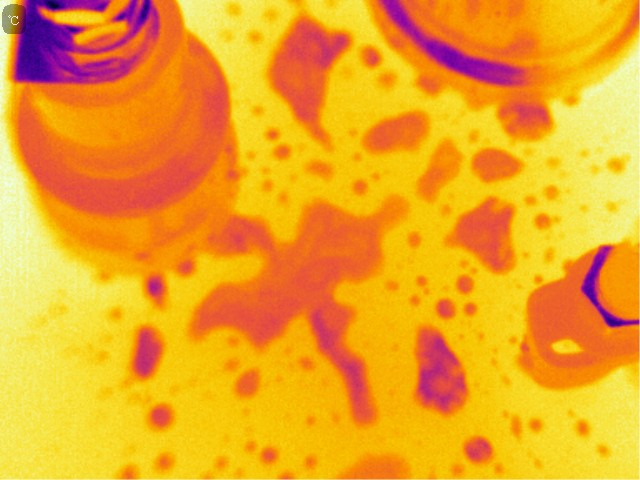Water: (178, 193, 414, 351), (263, 12, 351, 143), (437, 194, 529, 271), (410, 317, 479, 416), (323, 346, 378, 425), (365, 110, 424, 155), (420, 139, 459, 201), (523, 182, 573, 230), (569, 407, 616, 456), (499, 103, 553, 139), (500, 404, 548, 441), (472, 149, 521, 182), (241, 436, 287, 468), (407, 64, 448, 99), (135, 326, 163, 376), (463, 428, 495, 464), (232, 369, 261, 398), (603, 151, 629, 179), (140, 280, 168, 304), (309, 156, 335, 179), (268, 142, 293, 164), (452, 273, 479, 293), (149, 405, 171, 426), (111, 467, 143, 480), (360, 46, 379, 66), (435, 300, 455, 318), (156, 452, 176, 470), (348, 181, 370, 197), (464, 301, 482, 318)
